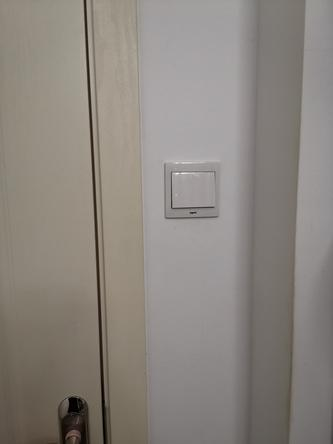switch: (172, 168, 223, 211)
